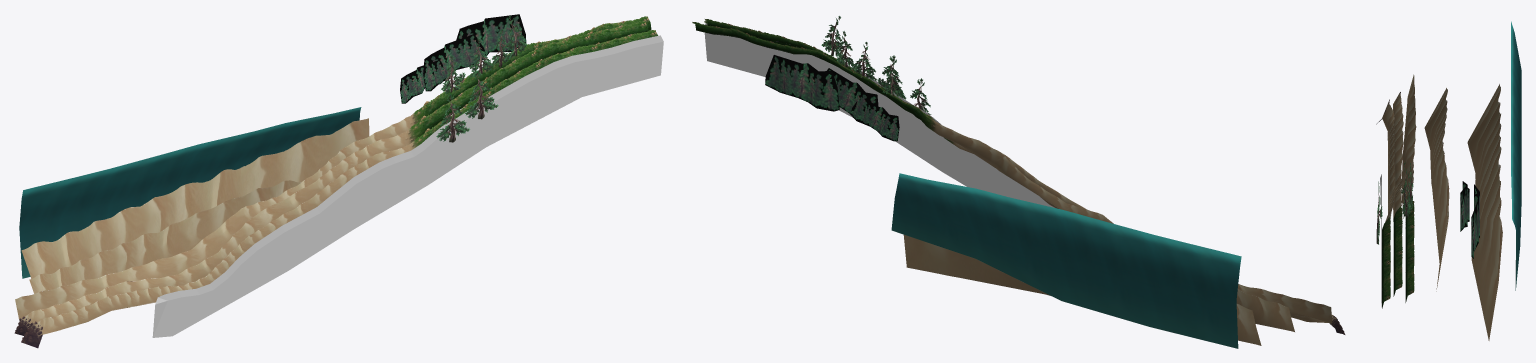
Rendered from Level 6 Deep Lake Pt 4.FBX.
3 views of the same model, side by side, from view 1: azimuth 30°, elevation 25°; view 2: azimuth 150°, elevation 25°; view 3: azimuth 270°, elevation 25° (orthographic). The views are drawn at different scales.
Parts seen in each view (by area): view 1: Black Cave Pt 4 Level 6, Ground Pt 4 _1 BG, Underwater BG Pt 4, Ground Pt 4_1, Ground Pt 4_1 FG, Pine Tree Group Pt 4 Level 6, Ground Pt 4_2, Ground Pt 4_2 FG, Trees pt 4_Level 6, Ground Pt 4 BG, Trees pt 4 FG_Level 6; view 2: Underwater BG Pt 4, Ground Pt 4 _1 BG, Black Cave Pt 4 Level 6, Pine Tree Group Pt 4 Level 6, Trees pt 4_Level 6, Ground Pt 4 BG, Ground Pt 4_2, Ground Pt 4_1, Trees pt 4 FG_Level 6; view 3: Ground Pt 4 _1 BG, Underwater BG Pt 4, Ground Pt 4_1, Pine Tree Group Pt 4 Level 6, Ground Pt 4_1 FG, Ground Pt 4 BG, Ground Pt 4_2, Ground Pt 4_2 FG, Trees pt 4_Level 6, Trees pt 4 FG_Level 6, Black Cave Pt 4 Level 6.
Boxes of the visible parts, box(x1,y1,x2,y2) form: Black Cave Pt 4 Level 6: box(152, 35, 663, 337); Ground Pt 4 _1 BG: box(15, 101, 433, 319); Underwater BG Pt 4: box(19, 107, 361, 278); Ground Pt 4_1: box(14, 115, 431, 335); Ground Pt 4_1 FG: box(21, 128, 432, 348); Pine Tree Group Pt 4 Level 6: box(400, 14, 526, 103); Ground Pt 4_2: box(426, 20, 648, 128); Ground Pt 4_2 FG: box(430, 30, 657, 133); Trees pt 4_Level 6: box(441, 16, 526, 93); Ground Pt 4 BG: box(429, 16, 651, 111); Trees pt 4 FG_Level 6: box(436, 71, 498, 142); Underwater BG Pt 4: box(891, 173, 1241, 348); Ground Pt 4 _1 BG: box(903, 106, 1332, 345); Black Cave Pt 4 Level 6: box(704, 23, 1054, 207); Pine Tree Group Pt 4 Level 6: box(765, 55, 899, 141); Trees pt 4_Level 6: box(821, 16, 903, 97); Ground Pt 4 BG: box(692, 22, 916, 116); Ground Pt 4_2: box(705, 19, 927, 115); Ground Pt 4_1: box(927, 114, 1341, 333); Trees pt 4 FG_Level 6: box(878, 55, 931, 114); Ground Pt 4 _1 BG: box(1401, 74, 1502, 340); Underwater BG Pt 4: box(1511, 21, 1521, 290); Ground Pt 4_1: box(1393, 92, 1403, 221); Pine Tree Group Pt 4 Level 6: box(1460, 181, 1479, 258); Ground Pt 4_1 FG: box(1376, 99, 1394, 222); Ground Pt 4 BG: box(1404, 201, 1414, 302); Ground Pt 4_2: box(1393, 207, 1402, 296); Ground Pt 4_2 FG: box(1382, 217, 1390, 308); Trees pt 4_Level 6: box(1401, 162, 1413, 217); Trees pt 4 FG_Level 6: box(1376, 181, 1382, 244); Black Cave Pt 4 Level 6: box(1380, 174, 1381, 307).
Size of what is drawn, in the model's own units: 12545 by 2076 by 4309.
